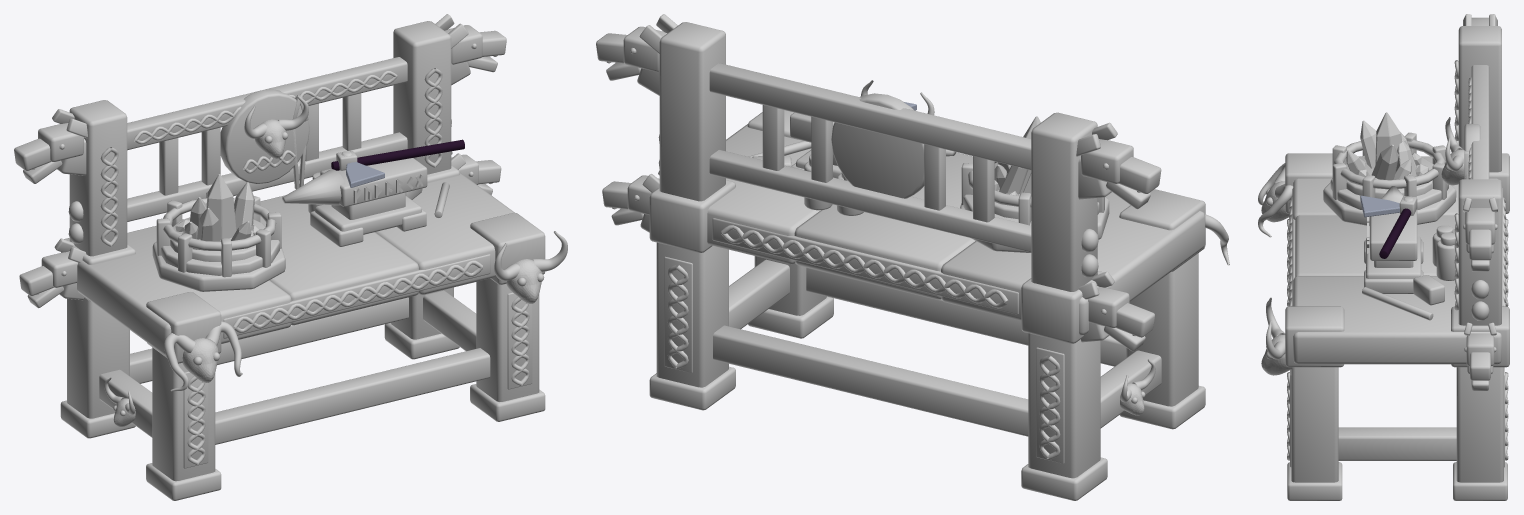
Rendered from BossSoulEnchantingTable.obj.
3 views of the same model, side by side, from view 1: azimuth 30°, elevation 25°; view 2: azimuth 150°, elevation 25°; view 3: azimuth 270°, elevation 25° (orthographic). The views are drawn at different scales.
Visible parts, largest first — view 1: Crossbar_Front, StoneSlab_Left, StoneSlab_Center, StoneSlab_Right, RackPost_Left, RackPost_Right, TimberLeg_2, RackRail_Top, TimberLeg_0, RackCenterCrest, Crossbar_Back, TimberLeg_1 (+46 smaller); view 2: Crossbar_Back, RackPost_Right, StoneSlab_Left, RackRail_Top, RackPost_Left, RackRail_Bottom, StoneSlab_Center, TimberLeg_2, TimberLeg_0, TimberLeg_3, Crossbar_Front, RackCenterCrest (+31 smaller); view 3: StoneSlab_Right, TimberLeg_1, TimberLeg_3, StoneSlab_Center, RackPost_Right, Crossbar_Right, RackPost_Left, LegCollar_1, RackRail_Top, Anvil_TopFace, StoneSlab_Left, Brazier_BasePlinth (+37 smaller).
Part boxes in pixels (x1=…): Crossbar_Front: x1=215, y1=348, x2=490, y2=444; StoneSlab_Left: x1=61, y1=219, x2=291, y2=355; StoneSlab_Center: x1=260, y1=195, x2=418, y2=325; StoneSlab_Right: x1=375, y1=172, x2=514, y2=294; RackPost_Left: x1=69, y1=100, x2=127, y2=256; RackPost_Right: x1=393, y1=21, x2=451, y2=174; TimberLeg_2: x1=67, y1=297, x2=129, y2=418; RackRail_Top: x1=127, y1=57, x2=407, y2=150; TimberLeg_0: x1=152, y1=347, x2=215, y2=481; RackCenterCrest: x1=220, y1=89, x2=309, y2=183; Crossbar_Back: x1=130, y1=297, x2=408, y2=383; TimberLeg_1: x1=476, y1=278, x2=539, y2=401; Crossbar_Back: x1=713, y1=325, x2=1028, y2=436; RackPost_Right: x1=659, y1=22, x2=725, y2=201; StoneSlab_Left: x1=941, y1=192, x2=1205, y2=335; RackRail_Top: x1=709, y1=63, x2=1031, y2=169; RackPost_Left: x1=1031, y1=112, x2=1097, y2=291; RackRail_Bottom: x1=709, y1=149, x2=1031, y2=252; StoneSlab_Center: x1=794, y1=152, x2=975, y2=299; TimberLeg_2: x1=1028, y1=333, x2=1100, y2=478; TimberLeg_0: x1=1126, y1=253, x2=1198, y2=406; TimberLeg_3: x1=656, y1=242, x2=728, y2=387; Crossbar_Front: x1=806, y1=267, x2=1126, y2=366; RackCenterCrest: x1=831, y1=93, x2=924, y2=198; StoneSlab_Right: x1=1293, y1=276, x2=1501, y2=364; TimberLeg_1: x1=1291, y1=367, x2=1338, y2=482; TimberLeg_3: x1=1456, y1=367, x2=1503, y2=482; StoneSlab_Center: x1=1295, y1=215, x2=1455, y2=276; RackPost_Right: x1=1458, y1=179, x2=1501, y2=325; Crossbar_Right: x1=1338, y1=427, x2=1456, y2=460; RackPost_Left: x1=1458, y1=26, x2=1501, y2=172; LegCollar_1: x1=1285, y1=306, x2=1344, y2=367; RackRail_Top: x1=1471, y1=65, x2=1489, y2=179; Anvil_TopFace: x1=1370, y1=209, x2=1417, y2=260; StoneSlab_Left: x1=1293, y1=156, x2=1497, y2=219; Brazier_BasePlinth: x1=1323, y1=182, x2=1456, y2=225.
Size of the model in its own units: 2.75 by 1.72 by 1.28.
